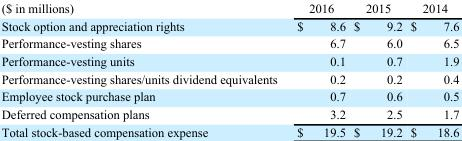table: (0, 0, 458, 138)
table column: (0, 0, 286, 138), (286, 0, 348, 138), (348, 0, 405, 138), (405, 0, 458, 138)
table column header: (0, 0, 458, 16)
table row: (0, 16, 458, 34), (0, 51, 458, 69), (0, 69, 458, 87), (0, 104, 458, 122), (0, 34, 458, 51), (0, 87, 458, 104), (0, 0, 458, 16), (0, 122, 458, 138)
